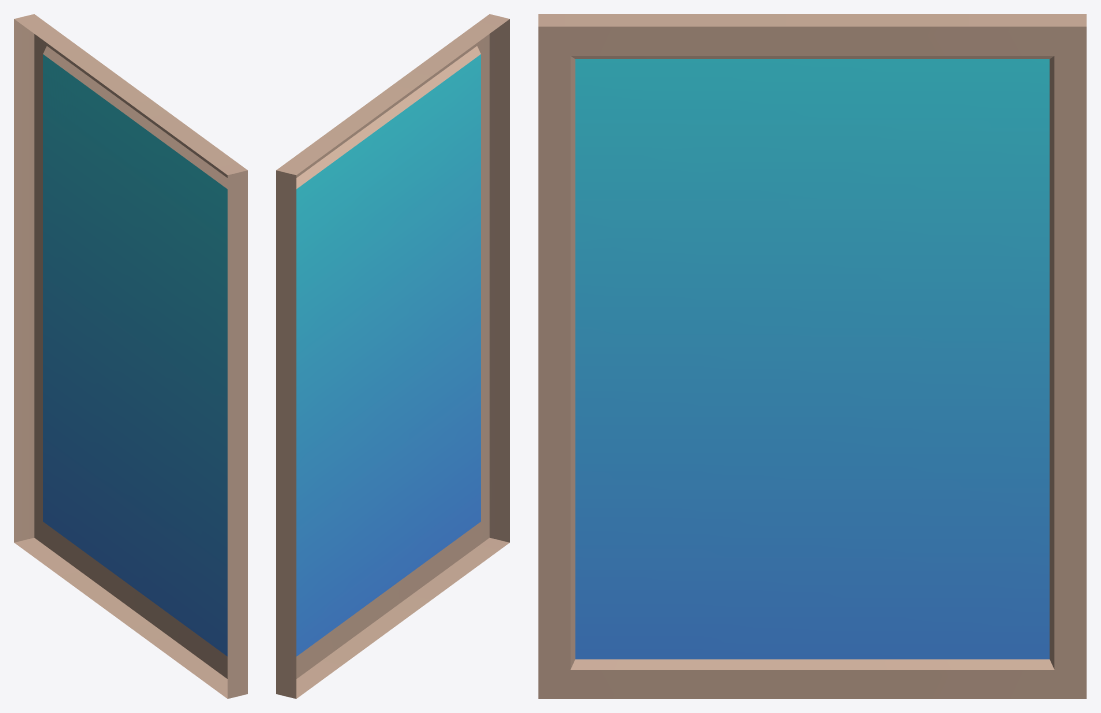
File: Window.fbx
3 views of the same model, side by side, from view 1: azimuth 30°, elevation 25°; view 2: azimuth 150°, elevation 25°; view 3: azimuth 270°, elevation 25° (orthographic). The views are drawn at different scales.
Visible parts, largest first — view 1: Window; view 2: Window; view 3: Window.
Part boxes in pixels (x1,y1,x2,y2): Window: (14, 14, 247, 698); Window: (276, 14, 509, 698); Window: (538, 14, 1086, 698).
Size of the model in its own units: 2.98 by 73.6 by 54.4.
